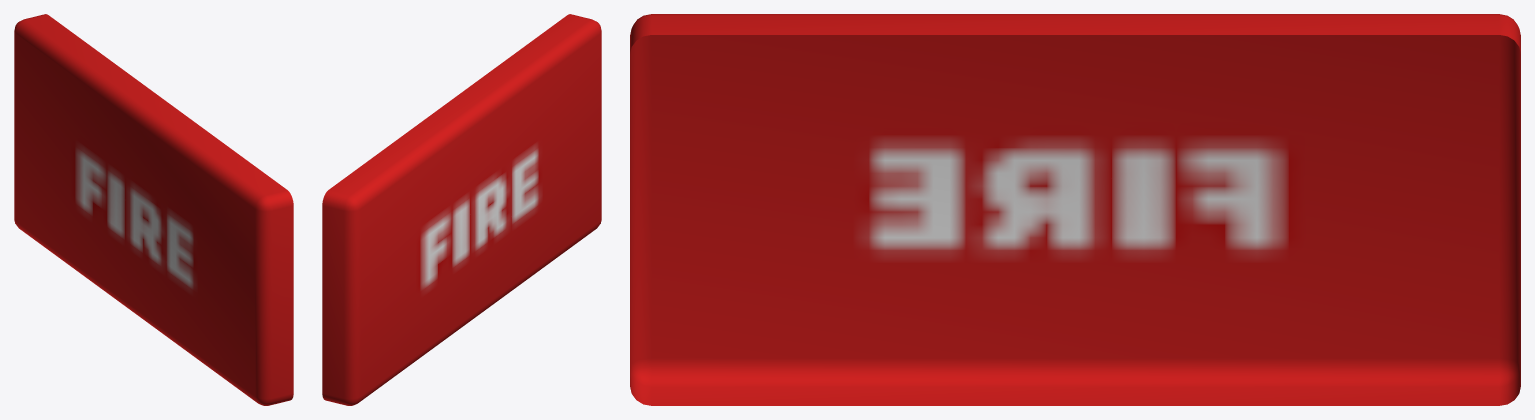
File: Fire.fbx
3 renders of one model, left to right at view 1: azimuth 30°, elevation 25°; view 2: azimuth 150°, elevation 25°; view 3: azimuth 270°, elevation 25°, orthographic. The views are drawn at different scales.
Parts seen in each view (by area): view 1: Fire; view 2: Fire; view 3: Fire.
Boxes of the visible parts, bbox=[...] form: Fire: bbox=[14, 14, 293, 405]; Fire: bbox=[322, 14, 601, 405]; Fire: bbox=[630, 14, 1520, 405].
Bounding box in the file's own units: 0.0332 × 0.4457 × 0.2049.
